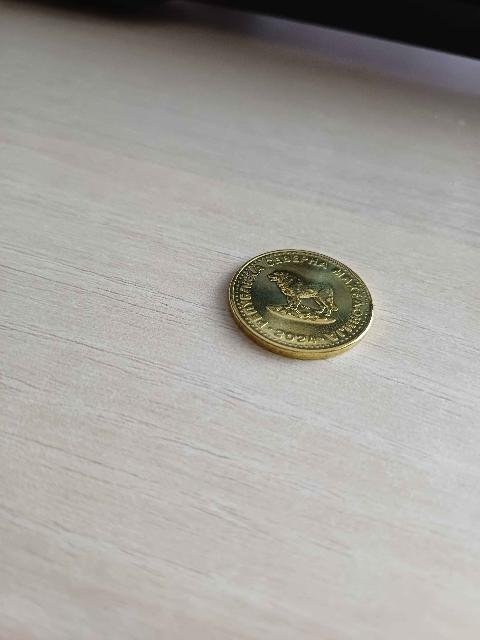coin: (230, 250, 372, 359)
